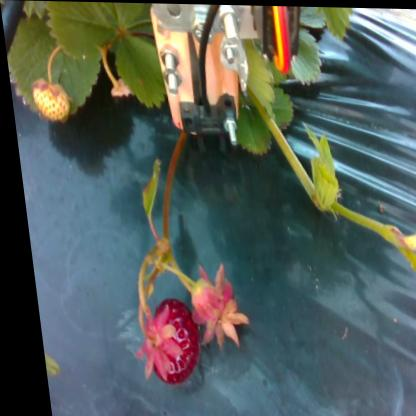ripe: (133, 300, 195, 383)
unripe: (32, 80, 70, 119)
